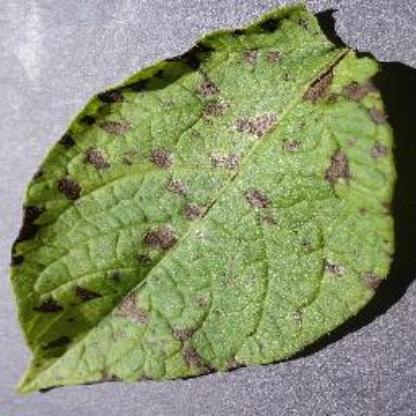Early-Blight: (4, 0, 411, 406)
